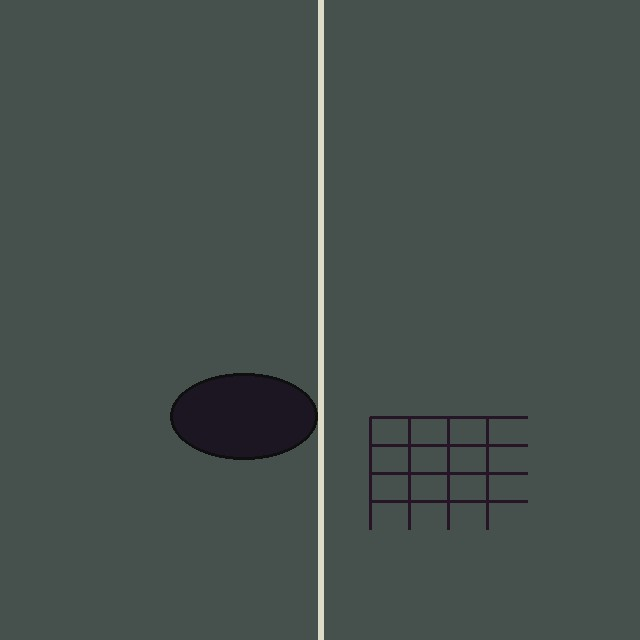alligator_crack: (370, 417, 527, 529)
pothole: (170, 373, 317, 459)
